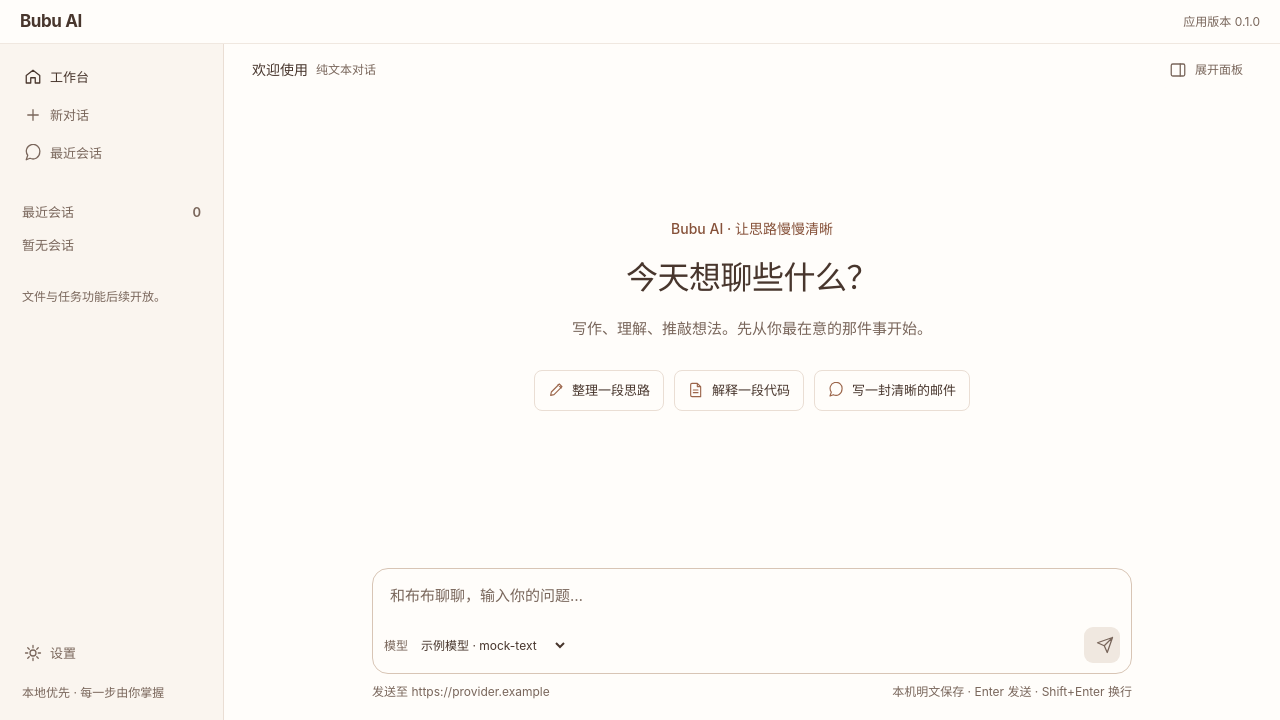
real React text-chat UI with an explicitly mocked bridge › names length truncation as a partial persisted answer, never a completed response
This screenshot has width=1280, height=720.
Check: the text "应用版本 0.1.0" is shown, box [1183,12,1260,31]
In the text box named "消息输入": (752, 597) [373,569,1131,625], type "你好，布布"
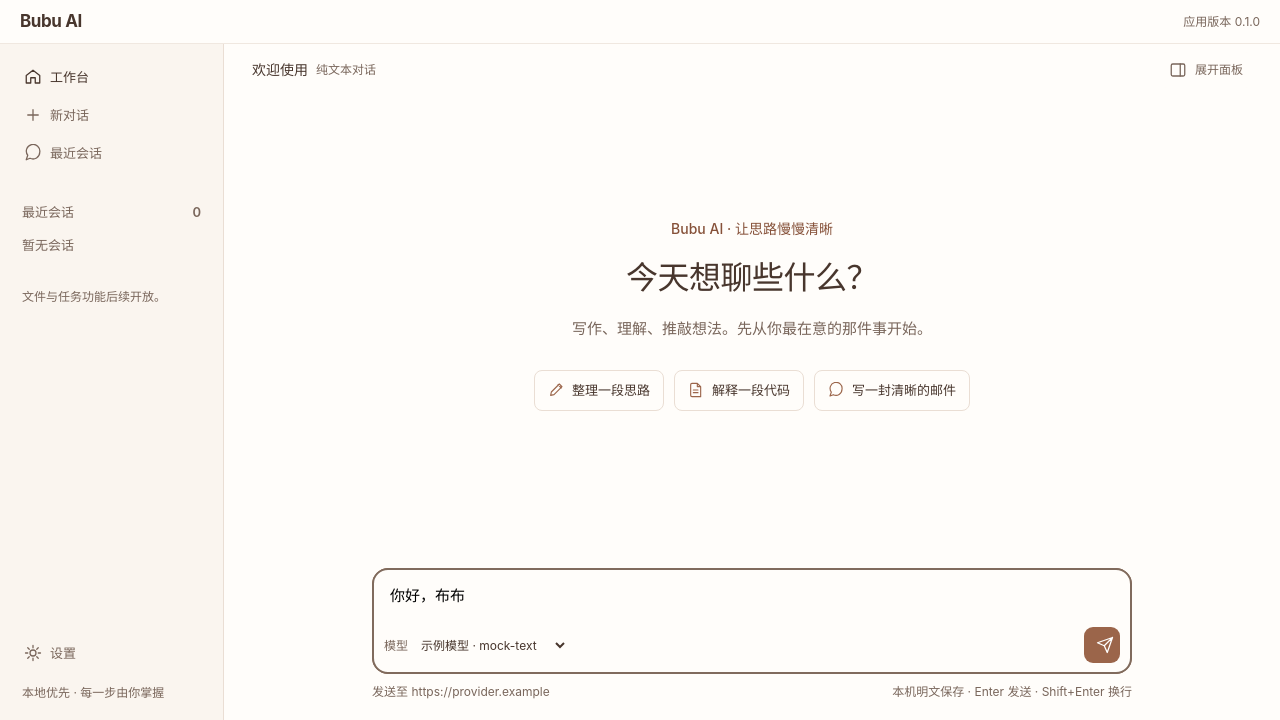
Click the button named "发送消息": (1102, 645) [1084,627,1120,663]
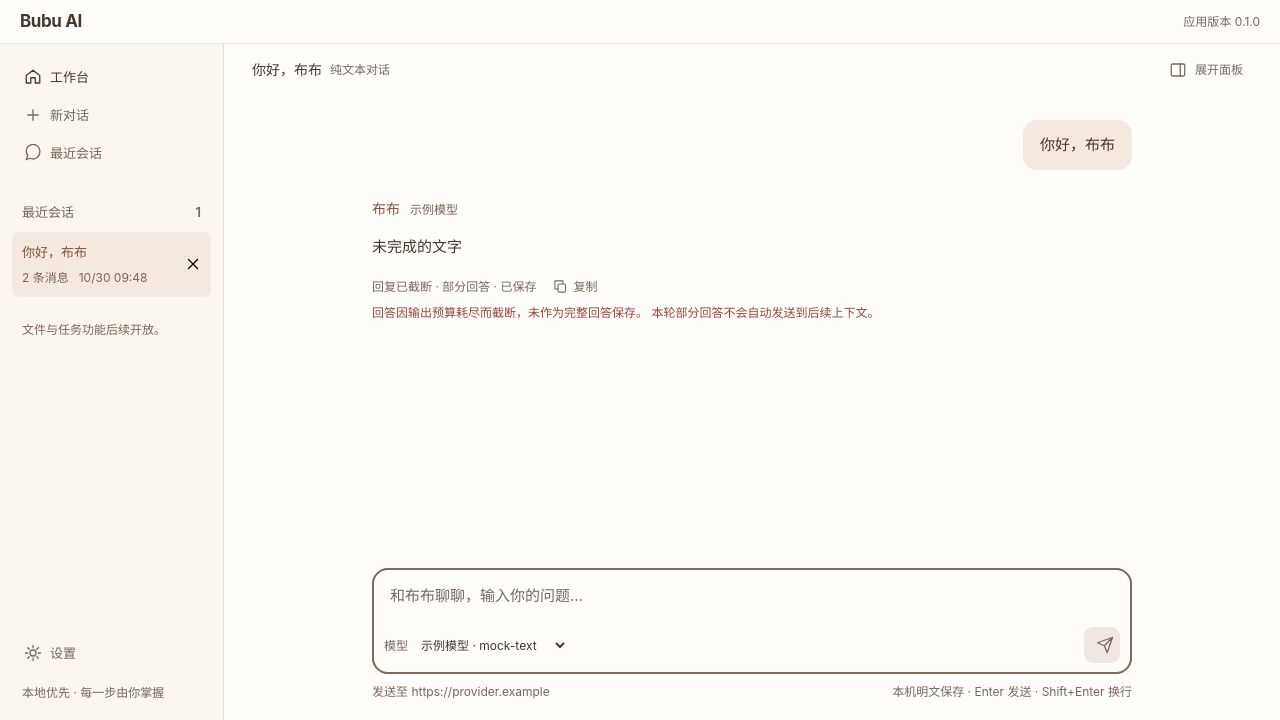
Check: the text "回复已截断 · 部分回答 · 已保存" is shown, box [372,277,536,296]
Check: the text "回答因输出预算耗尽而截断，未作为完整回答保存。 本轮部分回答不会自动发送到后续上下文。" is shown, box [372,305,879,320]
